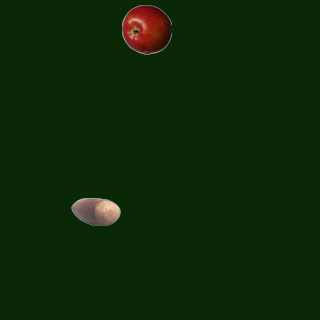Apple Braeburn: (121, 4, 171, 54)
Hazelnut: (70, 186, 120, 236)
